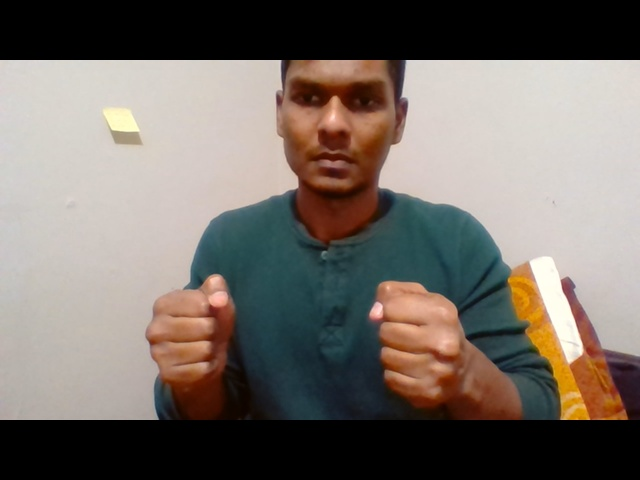ItisCool: (146, 272, 471, 409)
